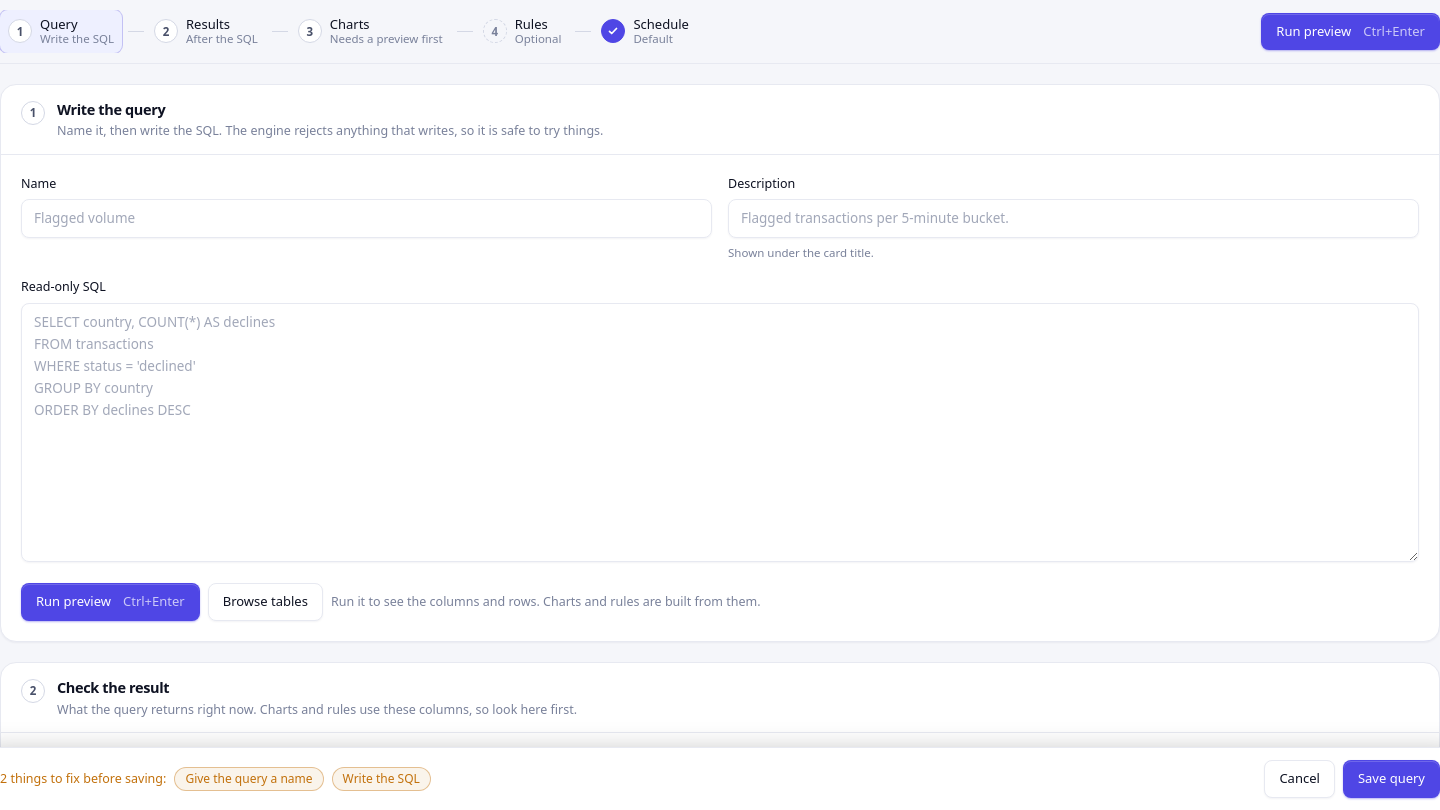
Test case: rules, without losing the results › shows the live effect on the preview rows while writing, in the dialog
In the text box labelled "Read-only SQL": (720, 433) [21,303,1419,562], type "SELECT 1"
(page scrolled)
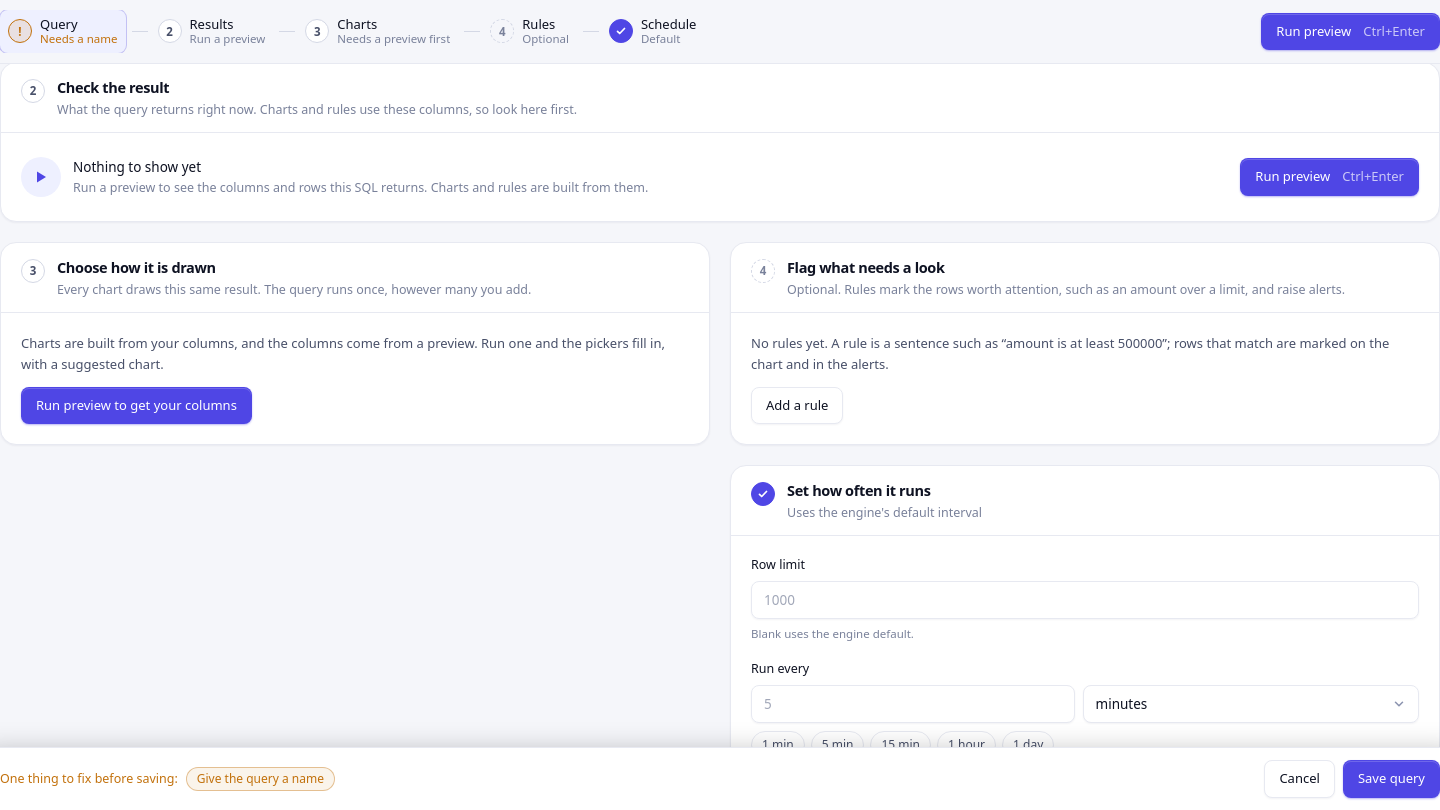
Click the button "Add a rule": (797, 406) [751,387,844,424]
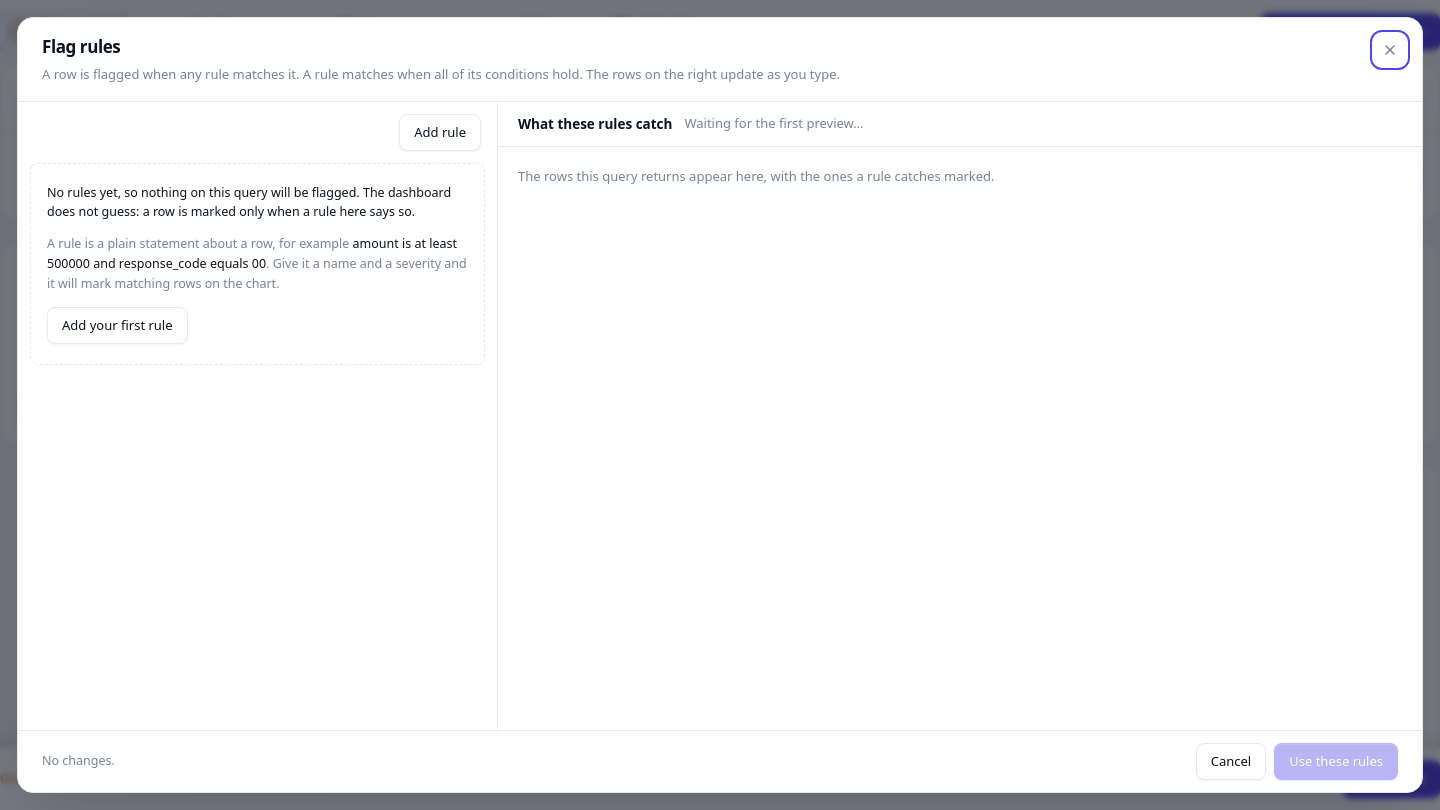
Click the button "Add rule": (440, 132) [399,114,481,151]
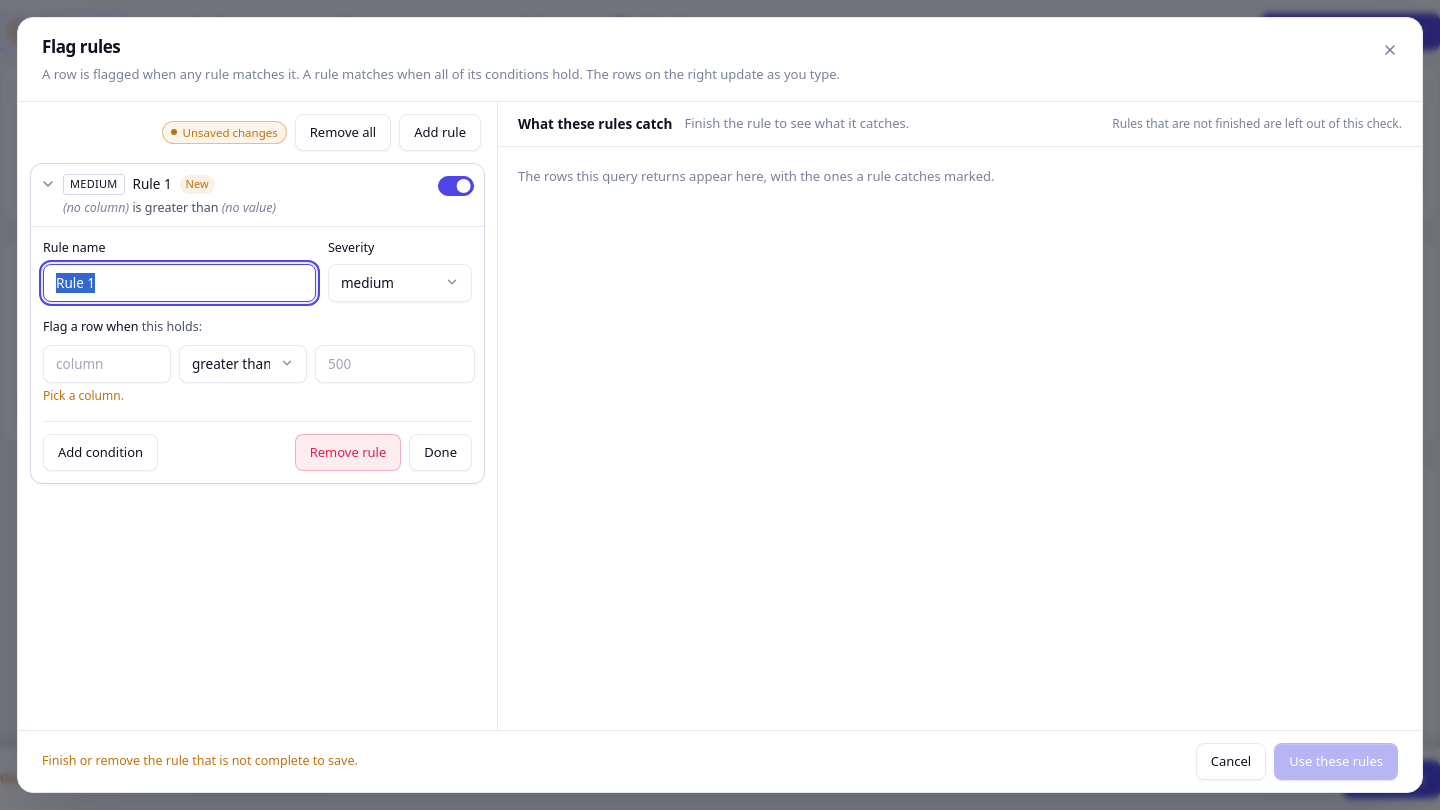
In the field labelled "column": (107, 364) [43,345,171,383], type "transactions"
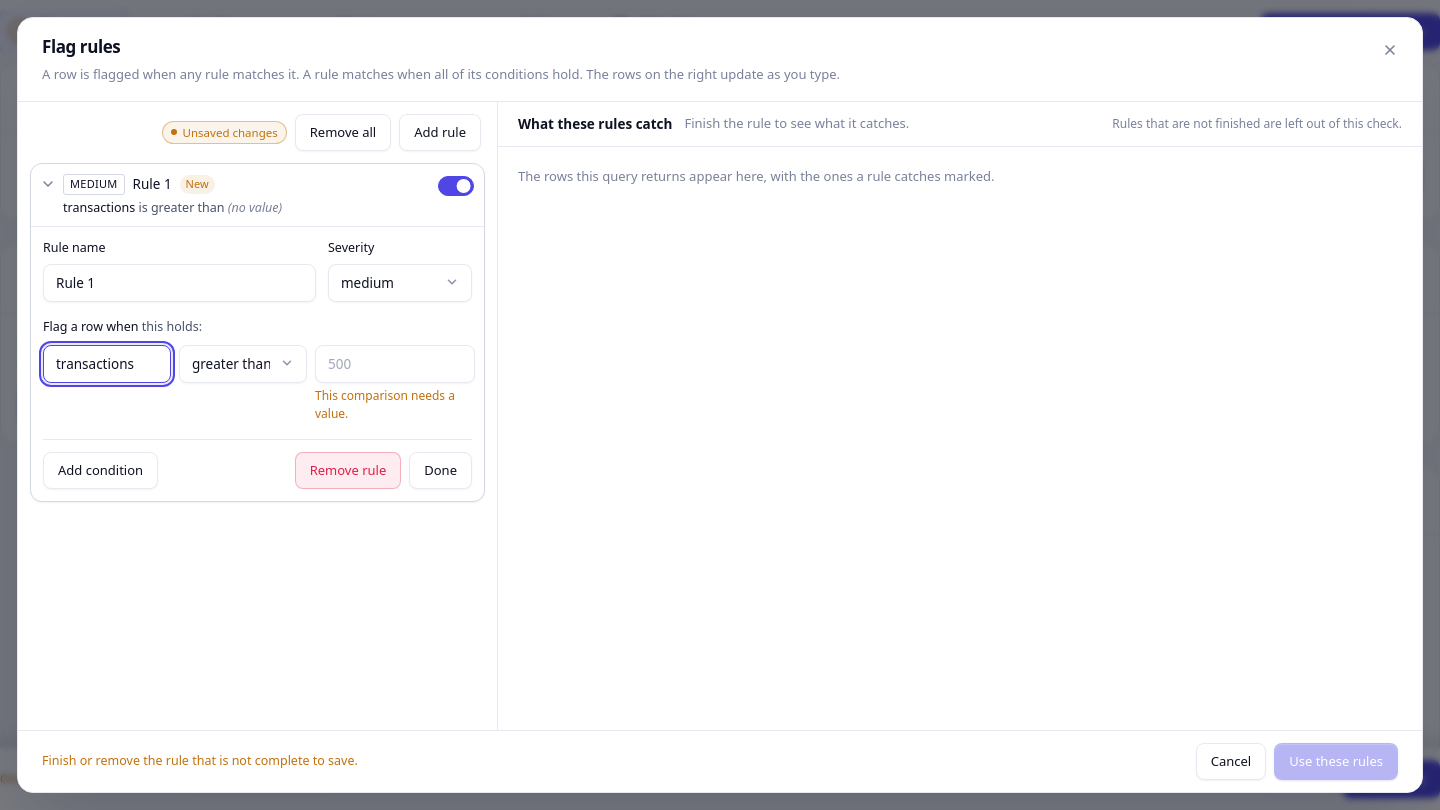
In the field named "Value": (395, 364) [315,345,475,383], type "140"
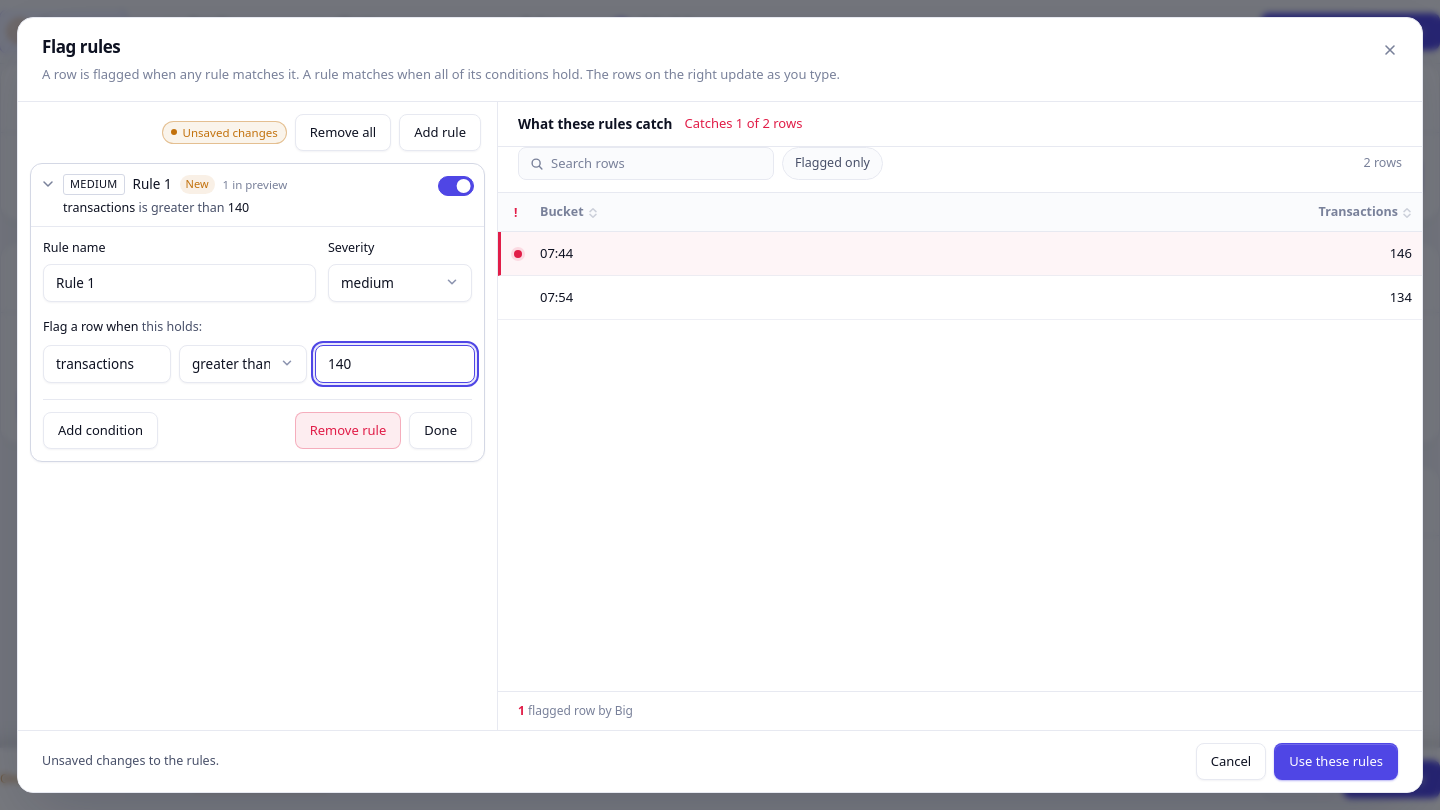
Now the text "Catches 1 of 2 rows" is shown 2 times
